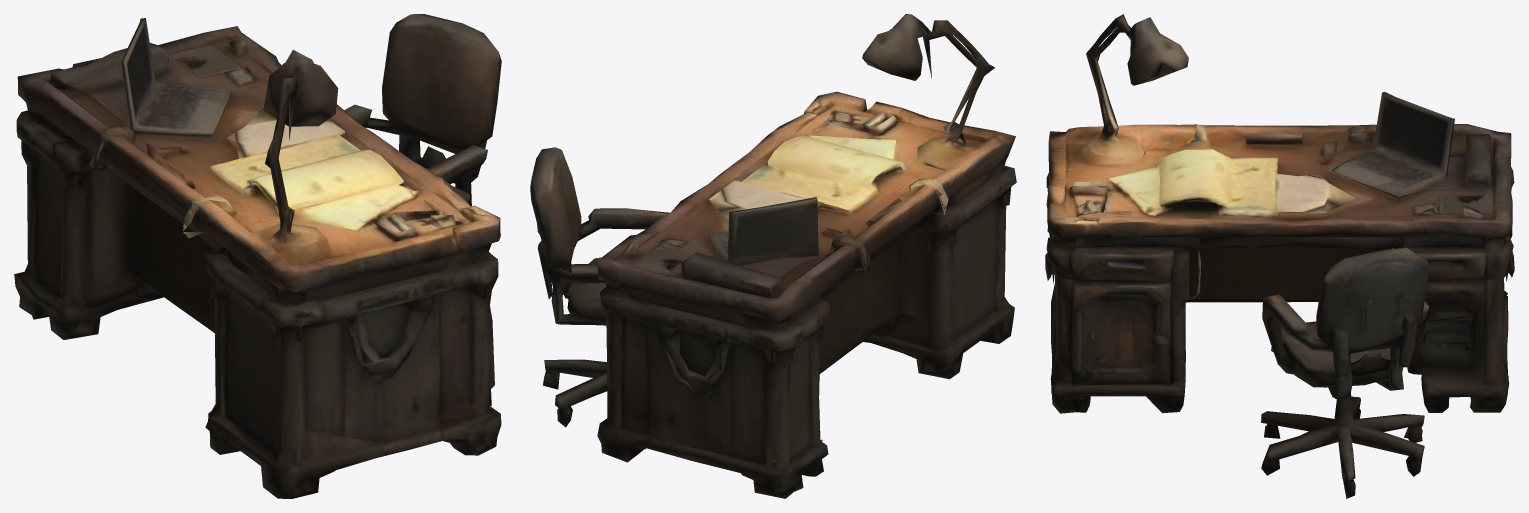
File: xd_desk.glb
The picture shows the model from 3 angles, left to right: view 1: azimuth 30°, elevation 25°; view 2: azimuth 150°, elevation 25°; view 3: azimuth 270°, elevation 25°; orthographic projection. The views are drawn at different scales.
Parts seen in each view (by area): view 1: tripo_node_db5e204c-1c70-44dc-a2a2-ce29e95088f7; view 2: tripo_node_db5e204c-1c70-44dc-a2a2-ce29e95088f7; view 3: tripo_node_db5e204c-1c70-44dc-a2a2-ce29e95088f7.
Part boxes in pixels (x1,y1,x2,y2): tripo_node_db5e204c-1c70-44dc-a2a2-ce29e95088f7: [14, 14, 501, 498]; tripo_node_db5e204c-1c70-44dc-a2a2-ce29e95088f7: [530, 14, 1016, 498]; tripo_node_db5e204c-1c70-44dc-a2a2-ce29e95088f7: [1045, 14, 1514, 498].
Size of the model in its own units: 0.8183 by 0.8407 by 1.
1 material, 1 textured.
